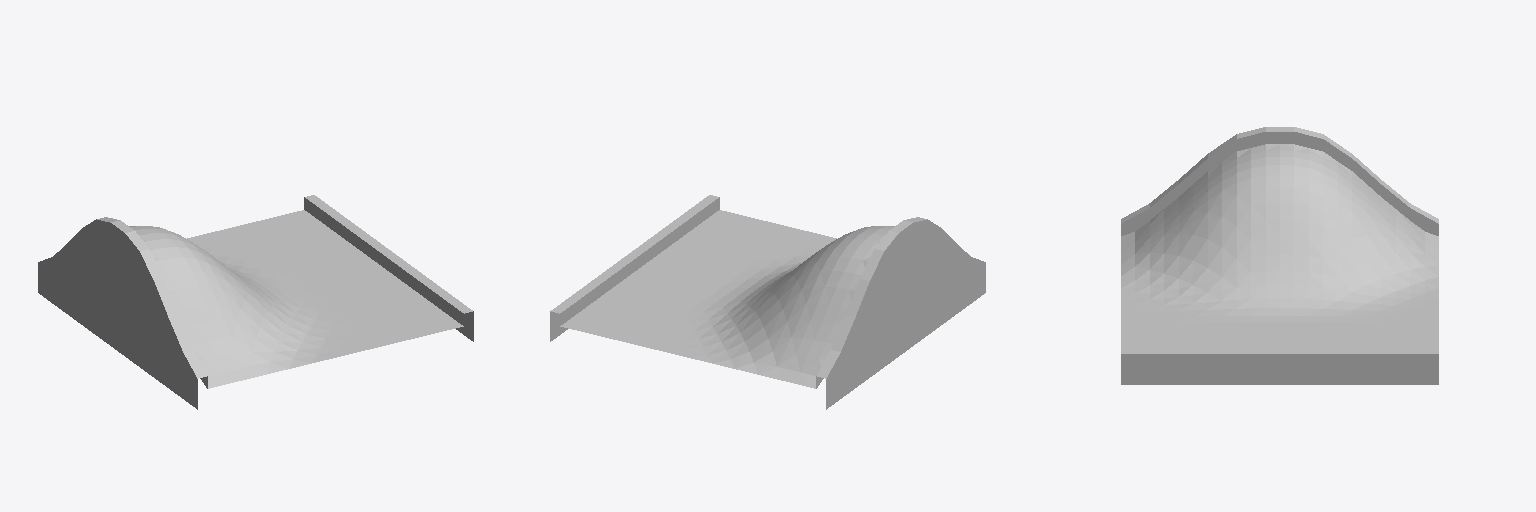
Rendered from sideBump_left_B_3x3.obj.
3 views of the same model, side by side, from view 1: azimuth 30°, elevation 25°; view 2: azimuth 150°, elevation 25°; view 3: azimuth 270°, elevation 25° (orthographic).
Parts seen in each view (by area): view 1: modelPanel2ViewSelectedSet sideBump_left_B_3x3; view 2: modelPanel2ViewSelectedSet sideBump_left_B_3x3; view 3: modelPanel2ViewSelectedSet sideBump_left_B_3x3.
Boxes of the visible parts, x1,y1,x2,y2 form: modelPanel2ViewSelectedSet sideBump_left_B_3x3: [38, 195, 473, 409]; modelPanel2ViewSelectedSet sideBump_left_B_3x3: [550, 195, 985, 409]; modelPanel2ViewSelectedSet sideBump_left_B_3x3: [1121, 127, 1438, 384].
Size of the model in its own units: 3 by 1.28 by 3.